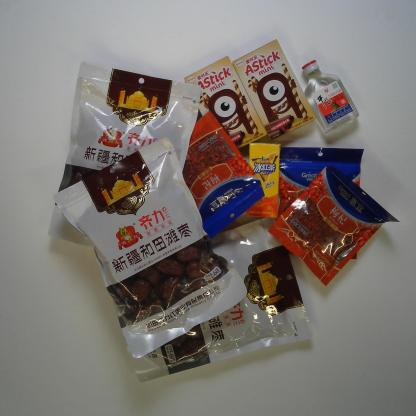Alcohol: (302, 60, 360, 134)
Dessert: (232, 39, 318, 142), (184, 56, 267, 149)
Dried Food: (52, 135, 248, 360), (123, 216, 315, 385), (47, 61, 202, 248)
Dried Fruit: (267, 164, 402, 288), (168, 110, 265, 241), (277, 147, 364, 260)
Drink: (246, 142, 281, 219)
